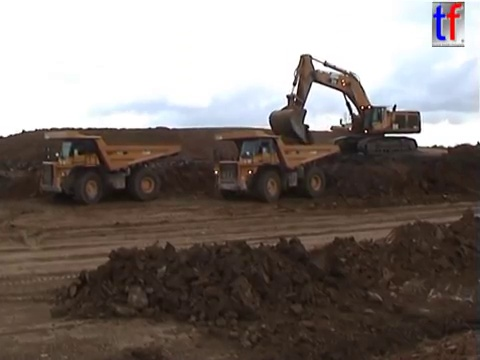excavator: (267, 52, 423, 160)
truck: (39, 129, 182, 206), (209, 129, 341, 203)
